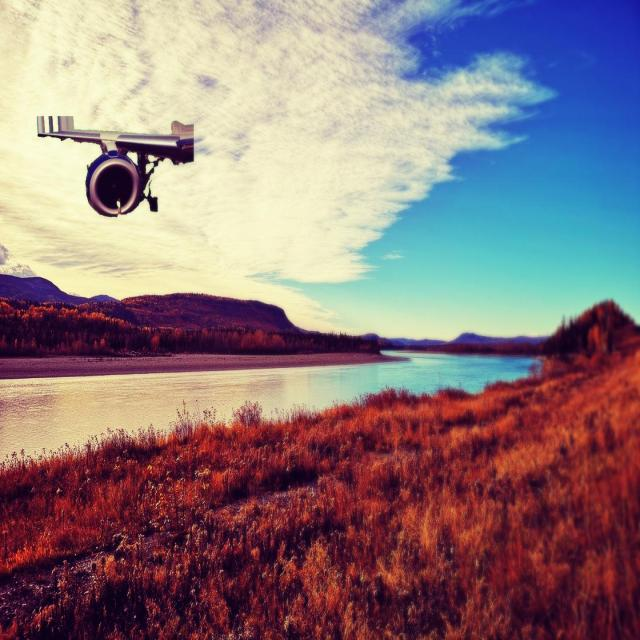airplane: (36, 114, 195, 217)
